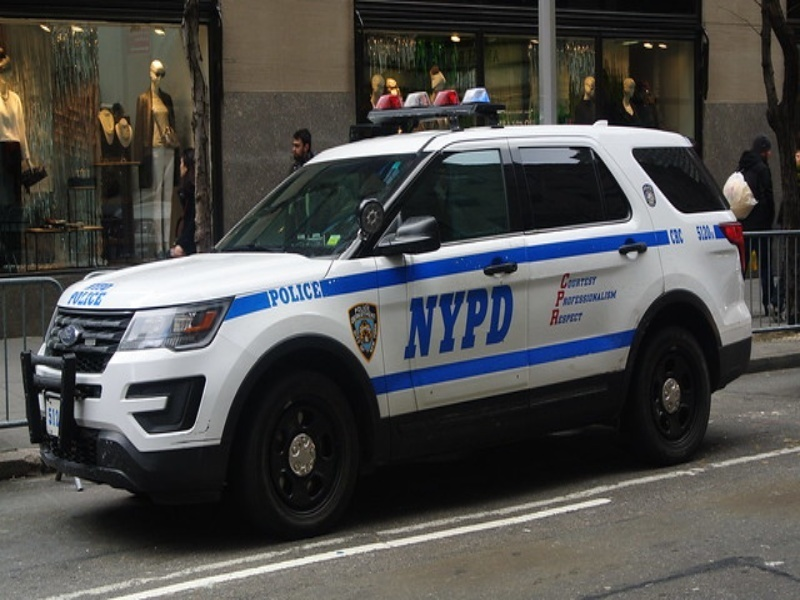policecar: (17, 63, 780, 536)
